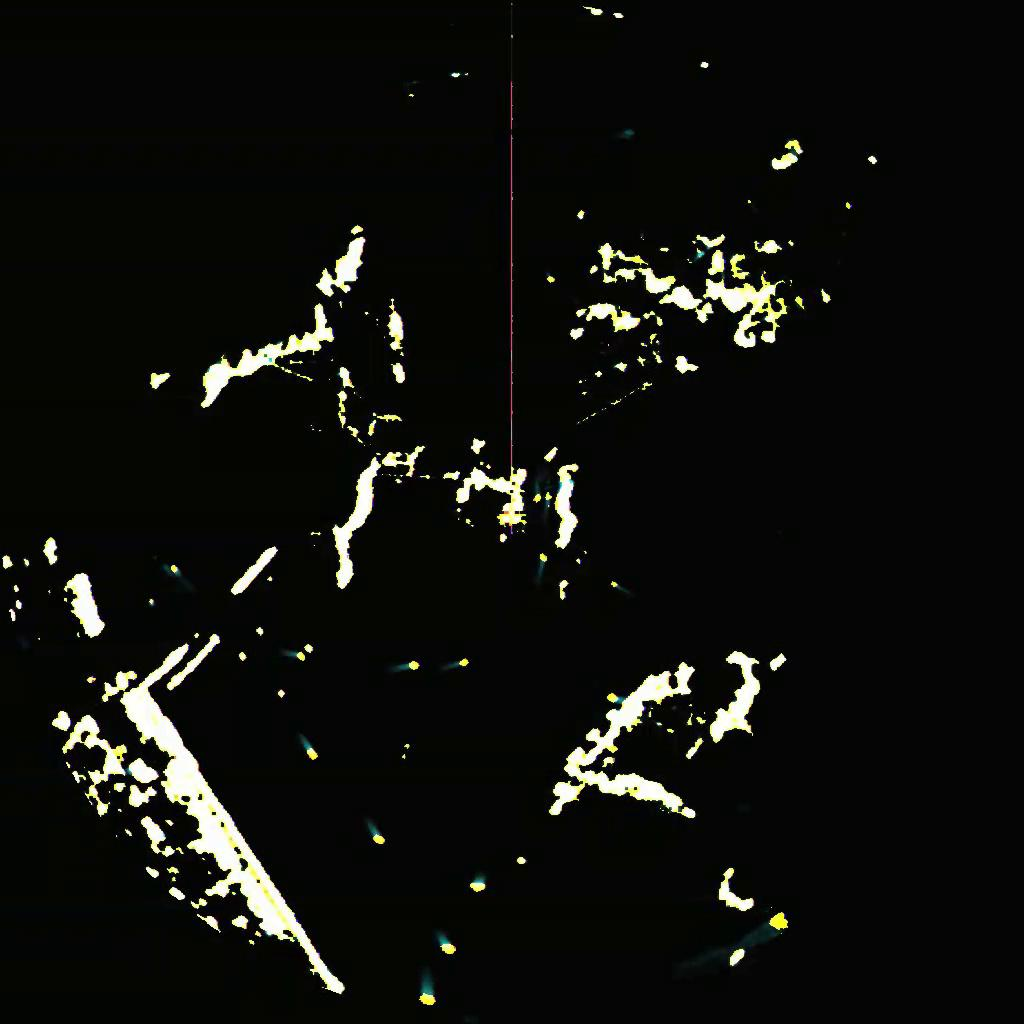B: (419, 967, 437, 1007), (299, 732, 319, 762), (367, 819, 387, 846), (436, 931, 457, 955), (469, 872, 487, 893), (389, 660, 420, 671), (444, 656, 470, 669), (282, 650, 307, 662), (538, 552, 548, 580), (609, 580, 630, 592), (605, 691, 625, 703), (532, 478, 541, 504), (169, 563, 182, 577), (544, 491, 551, 514)
